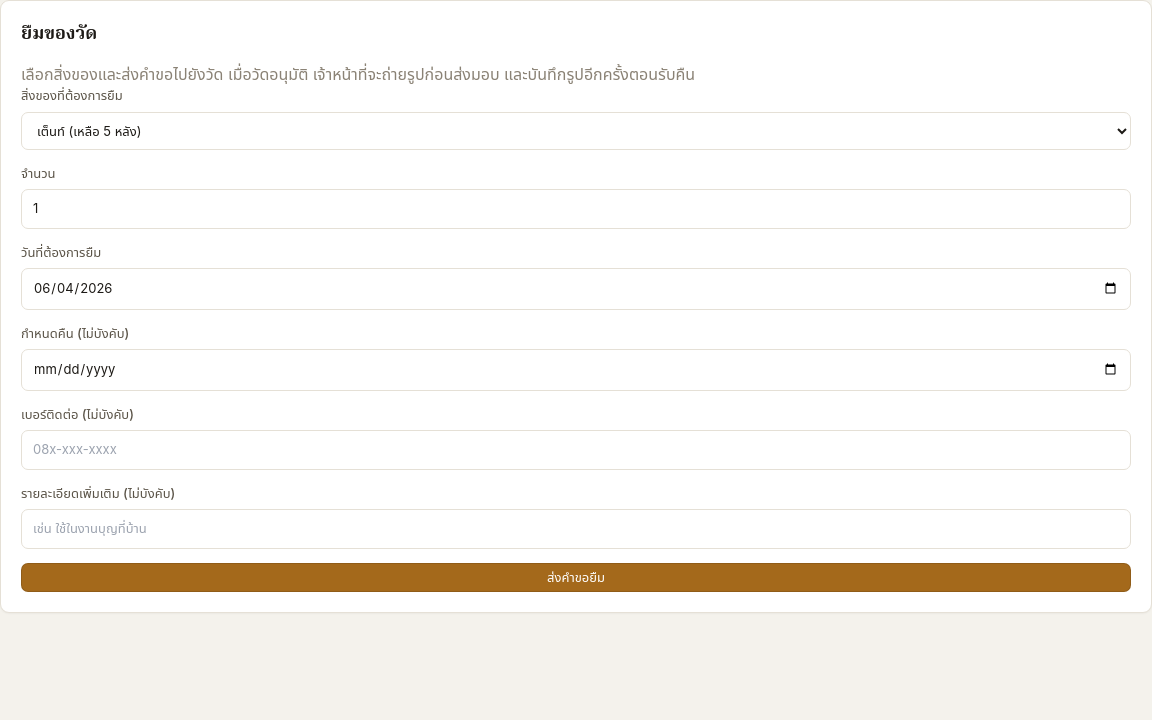
Scenario: devotee views (mounted) › borrow form posts the request and shows the pending message
Select "เต็นท์ (เหลือ 5 หลัง)" in the dropdown with id "loan-item" at (576, 130), box [21,112,1131,150]
Submit the form with id "loan-item"
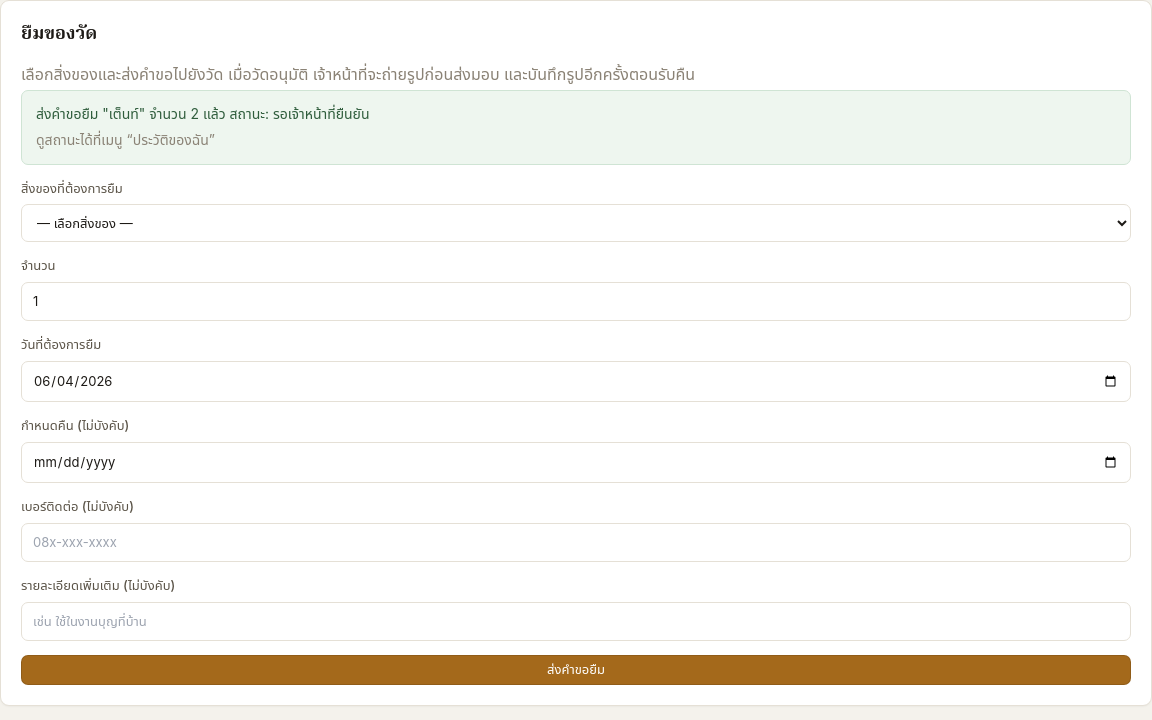
expect the text "ส่งคำขอยืม" is shown: met, box [36,105,370,122]
expect the text "รอเจ้าหน้าที่ยืนยัน" is shown: met, box [36,105,370,122]
